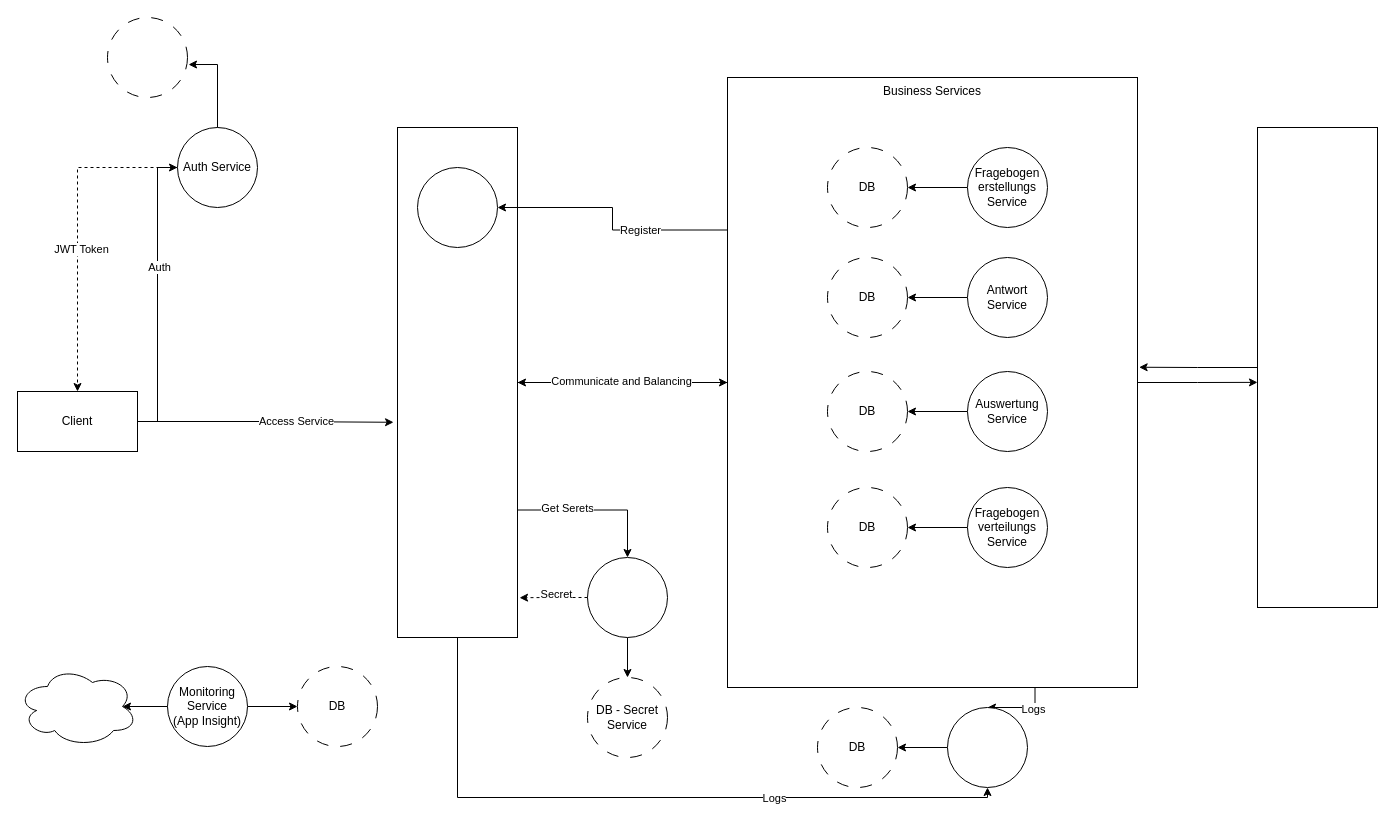
Some shapes in this 1395 by 823 pixel diagram are drawn without their labels. The box of each missing label's shape, as (x1, y1, x2, y2) in pixels:
API Gateway: (396, 126, 518, 638)
DB - Auth Service: (106, 16, 188, 98)
Discovery Service: (416, 166, 498, 248)
Logging: (946, 706, 1028, 788)
Messaging like (RabbitMQ): (1256, 126, 1378, 608)
Monitoring: (16, 666, 138, 746)
Secrets Service: (586, 556, 668, 638)
